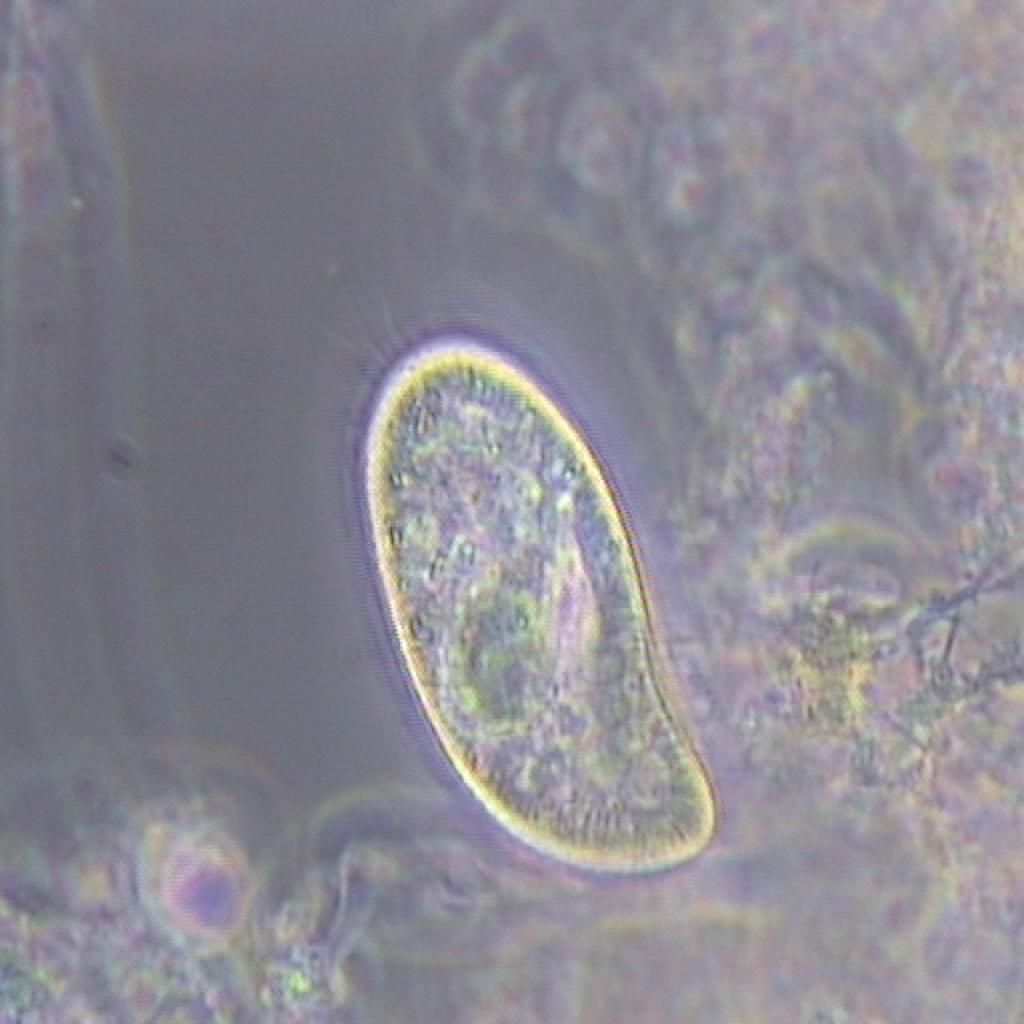Paramecium: (342, 307, 718, 905)
